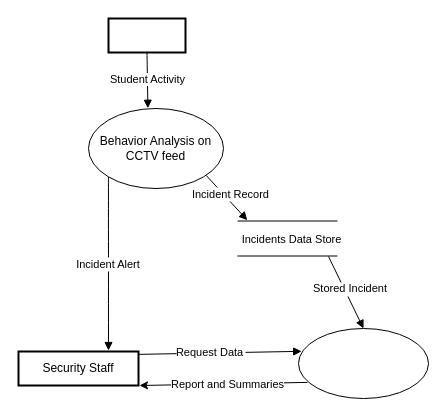
Some shapes in this 446 by 416 pixel diagram are drawn without their labels. The centre of each missing label's shape, as x and y in pixels:
"SSS's Web Interface" belongs at point 363,363.
"Students" belongs at point 146,35.
